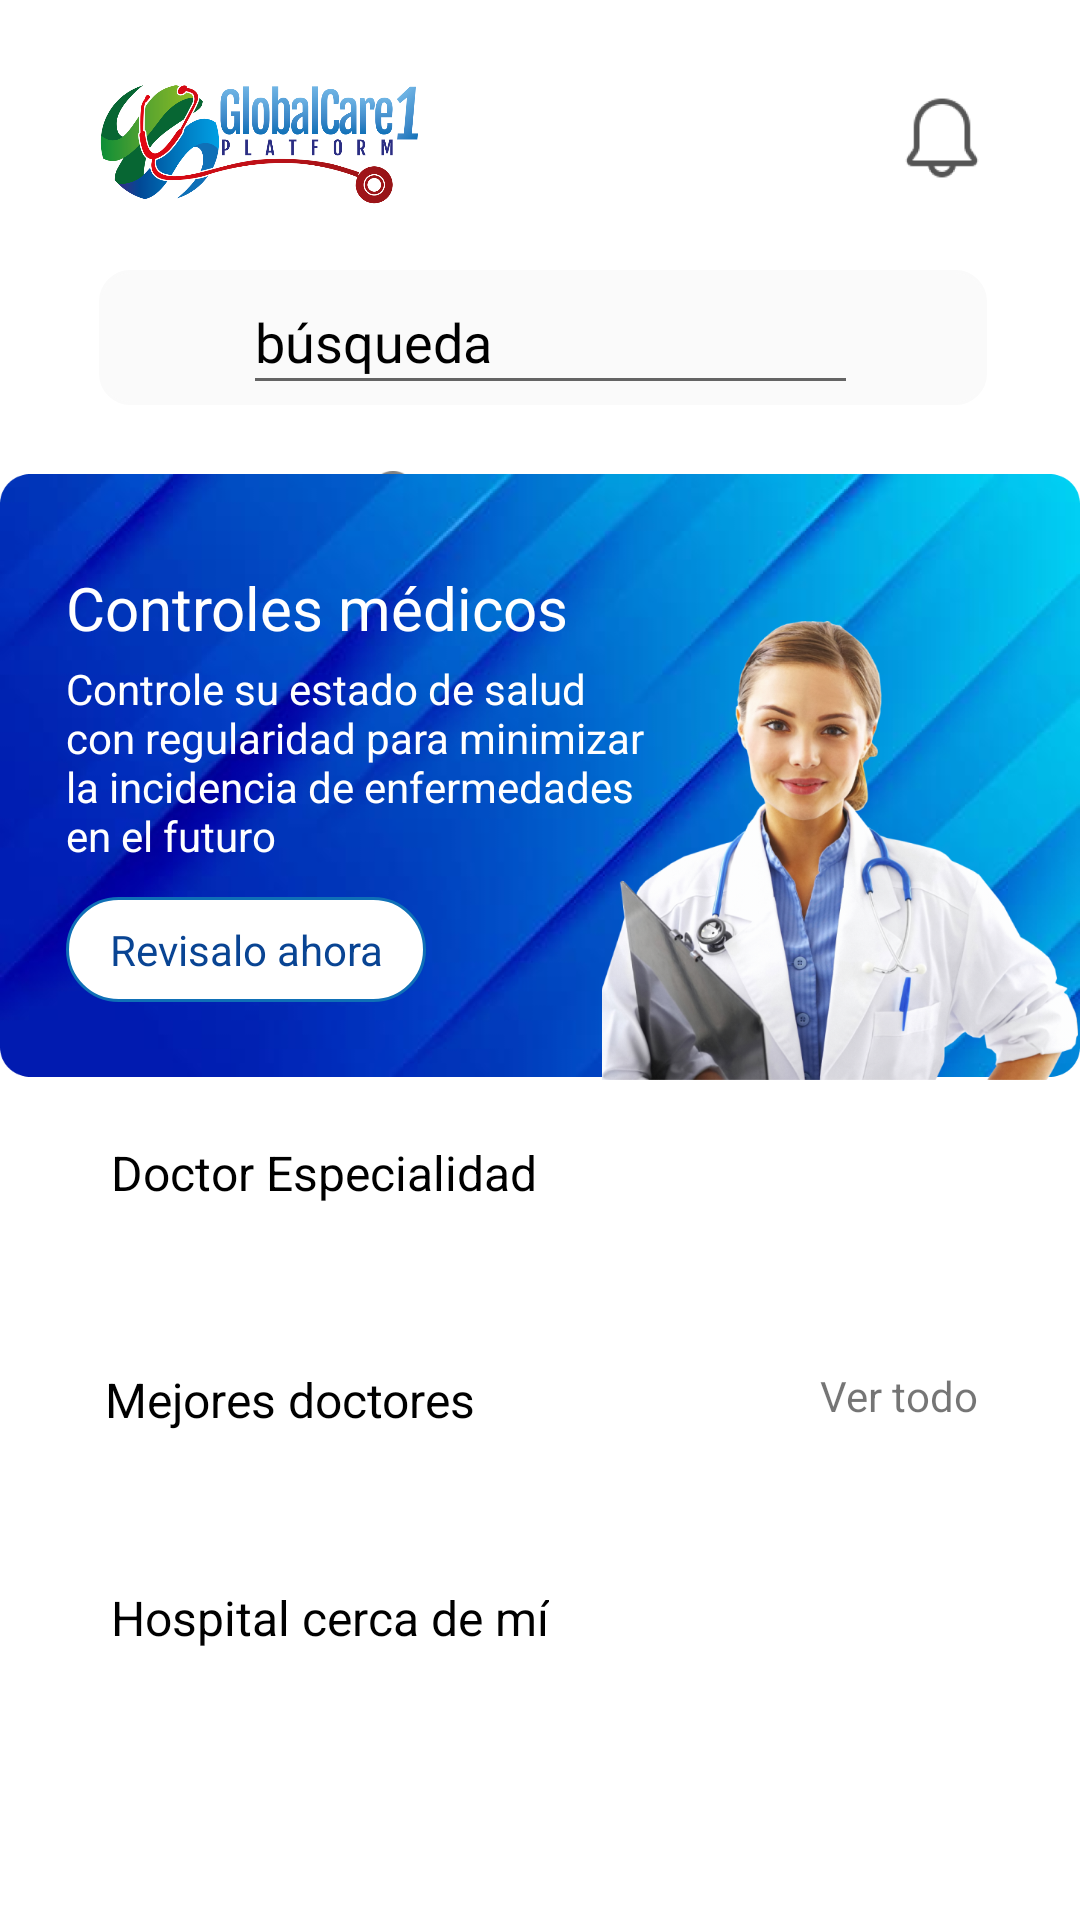

Point at icon controls on the screen. Image size 1080px×1920px, points as [x,y].
bell: [942,138]
